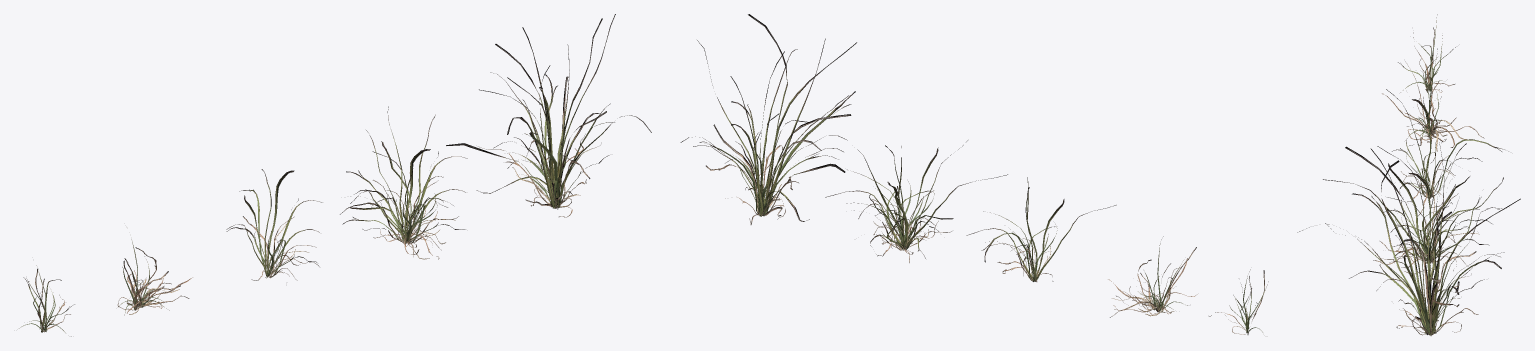
The model's file is grass_medium_02.glb.
The picture shows the model from 3 angles, left to right: view 1: azimuth 30°, elevation 25°; view 2: azimuth 150°, elevation 25°; view 3: azimuth 270°, elevation 25°; orthographic projection. The views are drawn at different scales.
Visible parts, largest first — view 1: grass_medium_02_a; view 2: grass_medium_02_a; view 3: grass_medium_02_a.
Boxes of the visible parts, bbox=[...] form: grass_medium_02_a: bbox=[19, 14, 651, 336]; grass_medium_02_a: bbox=[680, 14, 1268, 334]; grass_medium_02_a: bbox=[1297, 14, 1520, 335].
Size of the model in its own units: 1.31 by 0.4053 by 0.4333.
1 material, 1 textured.
